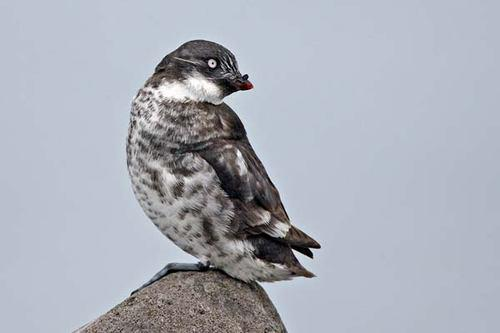006.Least_Auklet: (123, 39, 322, 291)
